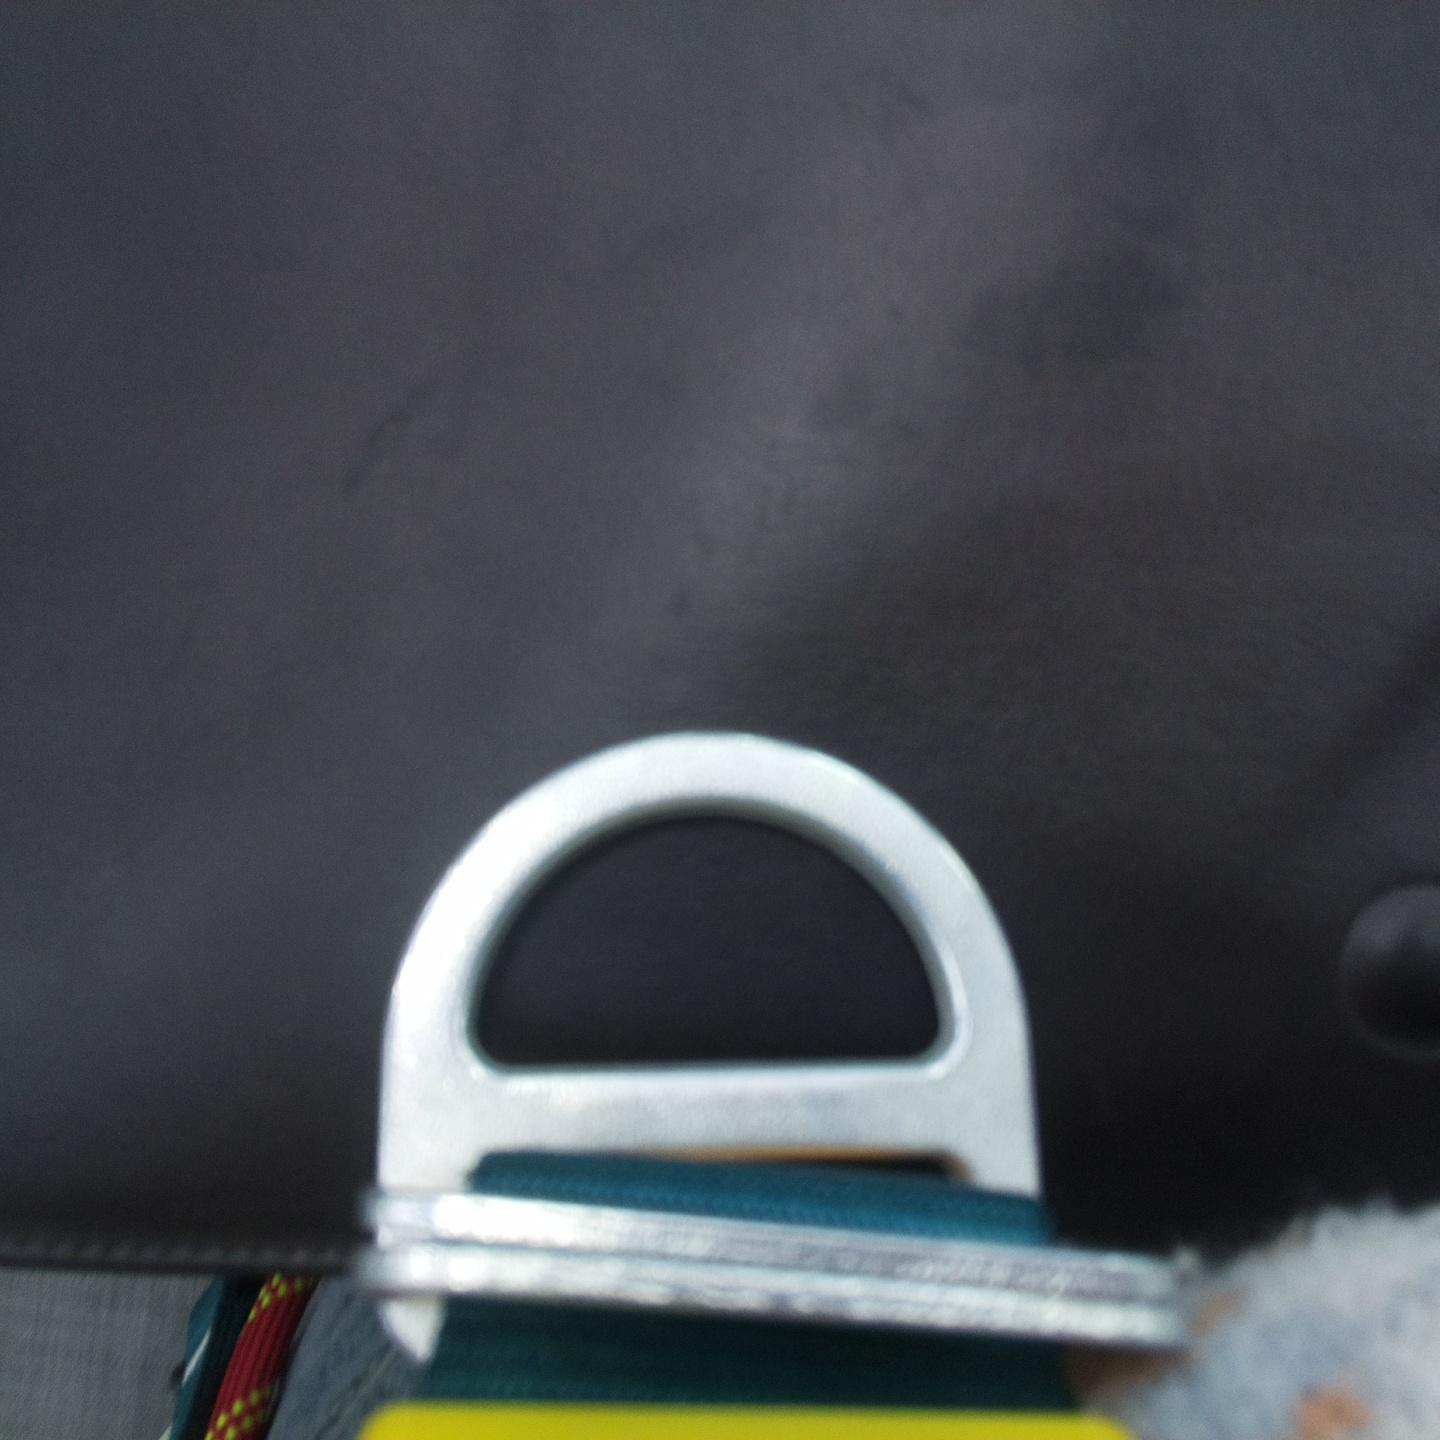UNSUCCESS: (353, 717, 1054, 1225)
